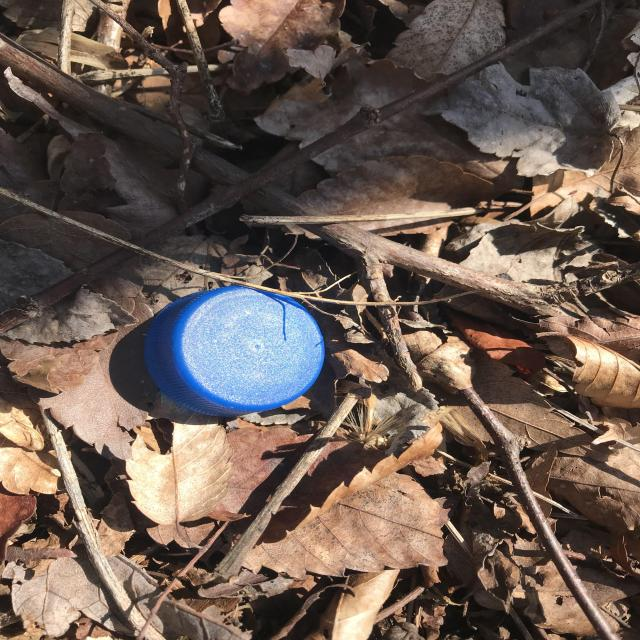litter: (98, 281, 343, 427)
